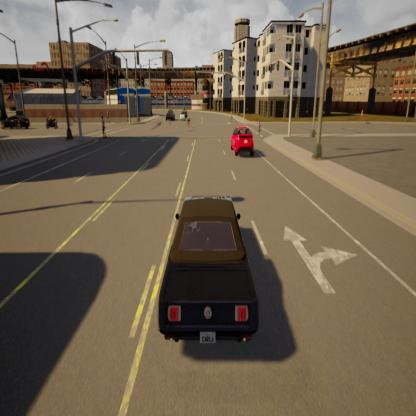Cars: (148, 186, 261, 352), (226, 120, 258, 168), (1, 100, 32, 136), (45, 109, 61, 135), (164, 96, 176, 123), (179, 104, 188, 126)
Pedestrian: (97, 110, 107, 142), (359, 101, 365, 122), (258, 117, 262, 143), (229, 105, 233, 125)
